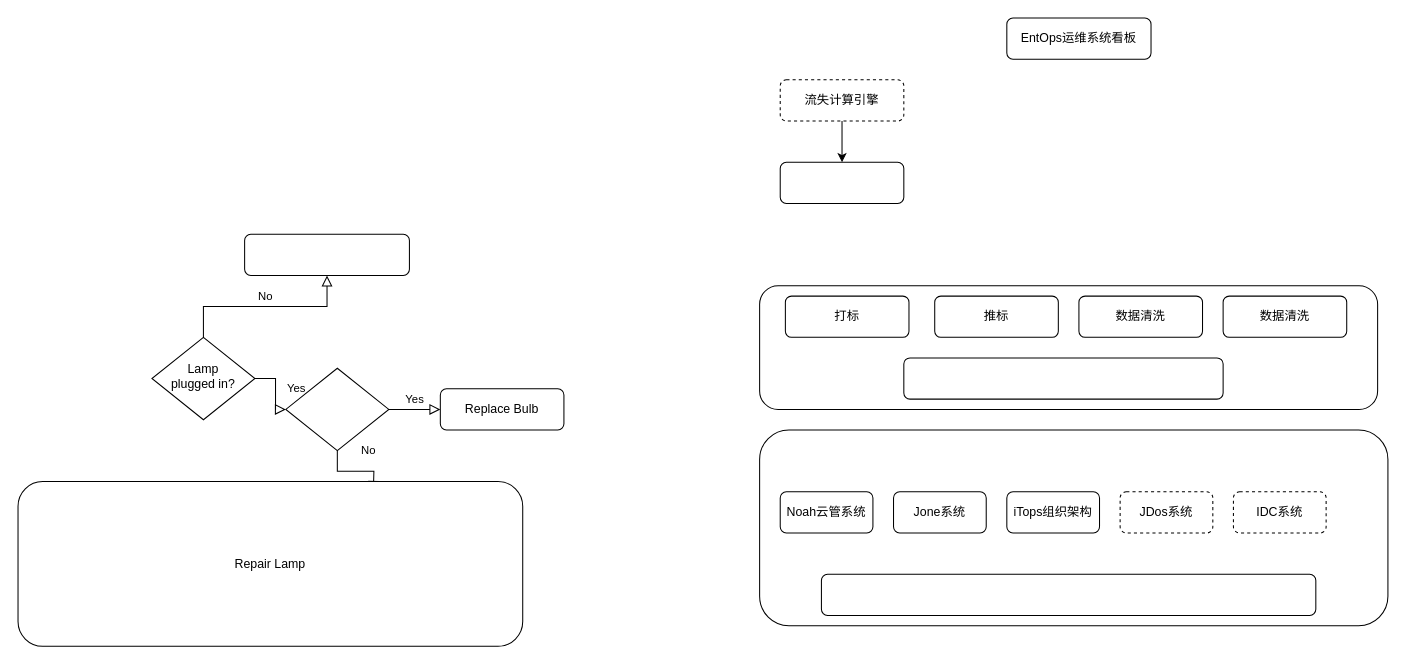
Image size: 1406x664. Some labels were removed from this diagram. Here are the shapes that lost their labels. From the top down, the centre of each, then its label:
At pixel 841 182: "公有云成本".
At pixel 326 254: "公有云持久化成本数据".
At pixel 1063 378: "EntOps标签服务".
At pixel 337 409: "Bulb burned out?".
At pixel 1068 594: "CMDB 资源配置服务".
